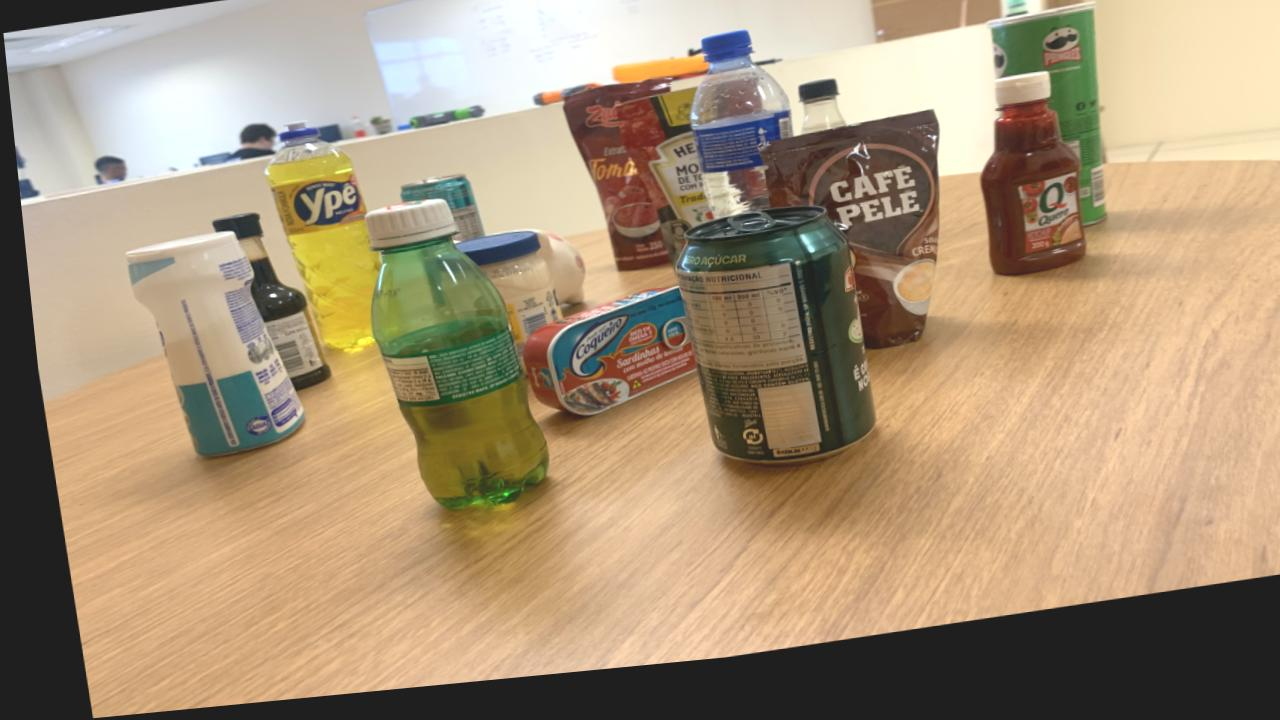Cleaner-Cleanup_Items: (121, 236, 295, 460)
Coffee-Pantry_Items: (756, 128, 935, 366)
Detergent-Cleanup_Items: (261, 130, 373, 355)
English_Sauce-Pantry_Items: (208, 218, 322, 395)
Guarana-Drinks: (359, 207, 537, 517)
Guarana_Can-Drinks: (667, 222, 865, 479)
Ketchup-Pantry_Items: (973, 92, 1079, 296)
Mayonnaise-Pantry_Items: (449, 241, 553, 364)
Pig_Safe-Miscellaneous: (526, 240, 578, 316)
Pringles-Snacks: (985, 24, 1100, 247)
Soda-Drinks: (793, 96, 841, 151)
Tea-Drinks: (394, 183, 478, 250)
Tomato_Sauce-Pantry_Items: (559, 92, 668, 283), (613, 102, 704, 271)
Tuna_Can-Pantry_Items: (514, 299, 687, 428)
Water_Bottle-Drinks: (685, 45, 787, 232)
